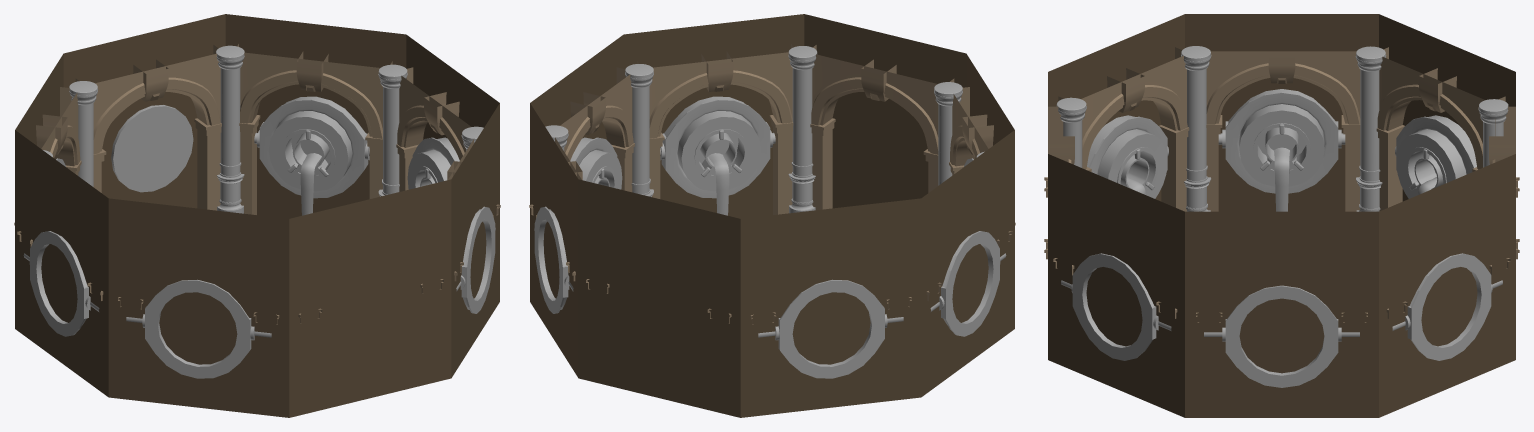
File: BossWallCombined.fbx
3 views of the same model, side by side, from view 1: azimuth 30°, elevation 25°; view 2: azimuth 150°, elevation 25°; view 3: azimuth 270°, elevation 25° (orthographic). The views are drawn at different scales.
Visible parts, largest first — view 1: Boss_Wall, VatHolder (×5), Boss_Arch7, Boss_Arch, Vat (×2), Boss_Glass, Boss_Arch6, Boss_Pillar, Boss_Arch1, Boss_Pillar12, Boss_Pillar6, IchorFlow; view 2: Boss_Wall, VatHolder (×5), Boss_Arch5, Boss_Arch4, Vat (×2), Boss_Arch6, Boss_Pillar10, Boss_Pillar11, Boss_Arch3, Boss_Pillar9, IchorFlow; view 3: Boss_Wall, VatHolder (×6), Vat (×3), Boss_Arch2, Boss_Arch3, Boss_Arch1, Boss_Pillar8, Boss_Pillar7, Boss_Arch4, Boss_Pillar9, Boss_Pillar6, Boss_Arch (+1 smaller).
Part boxes in pixels (box(x1,y1,x2,y2)): Boss_Wall: box(15, 14, 499, 417); VatHolder (×5): box(23, 96, 495, 378); Boss_Arch7: box(237, 44, 392, 214); Boss_Arch: box(75, 45, 221, 210); Vat (×2): box(268, 111, 450, 191); Boss_Glass: box(111, 105, 193, 192); Boss_Arch6: box(396, 67, 471, 191); Boss_Pillar: box(216, 45, 244, 213); Boss_Arch1: box(14, 87, 81, 225); Boss_Pillar12: box(378, 64, 407, 196); Boss_Pillar6: box(69, 81, 98, 186); IchorFlow: box(300, 153, 321, 215); Boss_Wall: box(530, 14, 1014, 417); VatHolder (×5): box(534, 96, 1006, 378); Boss_Arch5: box(637, 44, 793, 214); Boss_Arch4: box(810, 45, 954, 210); Vat (×2): box(579, 111, 761, 191); Boss_Arch6: box(560, 67, 634, 192); Boss_Pillar10: box(788, 46, 817, 213); Boss_Pillar11: box(625, 64, 653, 196); Boss_Arch3: box(949, 87, 1015, 225); Boss_Pillar9: box(934, 82, 962, 185); IchorFlow: box(708, 153, 729, 215); Boss_Wall: box(1048, 14, 1515, 417); VatHolder (×6): box(1061, 89, 1502, 387); Vat (×3): box(1097, 104, 1466, 198); Boss_Arch2: box(1206, 51, 1360, 211); Boss_Arch3: box(1058, 47, 1189, 211); Boss_Arch1: box(1376, 47, 1505, 211); Boss_Pillar8: box(1181, 46, 1211, 211); Boss_Pillar7: box(1355, 46, 1386, 211); Boss_Arch4: box(1044, 106, 1074, 259); Boss_Pillar9: box(1056, 97, 1086, 167); Boss_Pillar6: box(1478, 99, 1508, 167); Boss_Arch: box(1489, 106, 1519, 259).
Size of the model in its own units: 5182 by 2610 by 5133.
